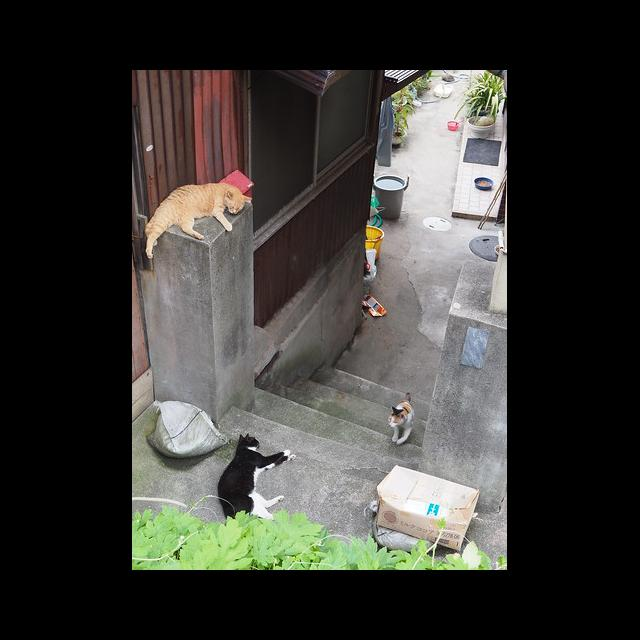animals: (145, 182, 253, 259), (213, 433, 298, 518), (388, 392, 416, 445)
